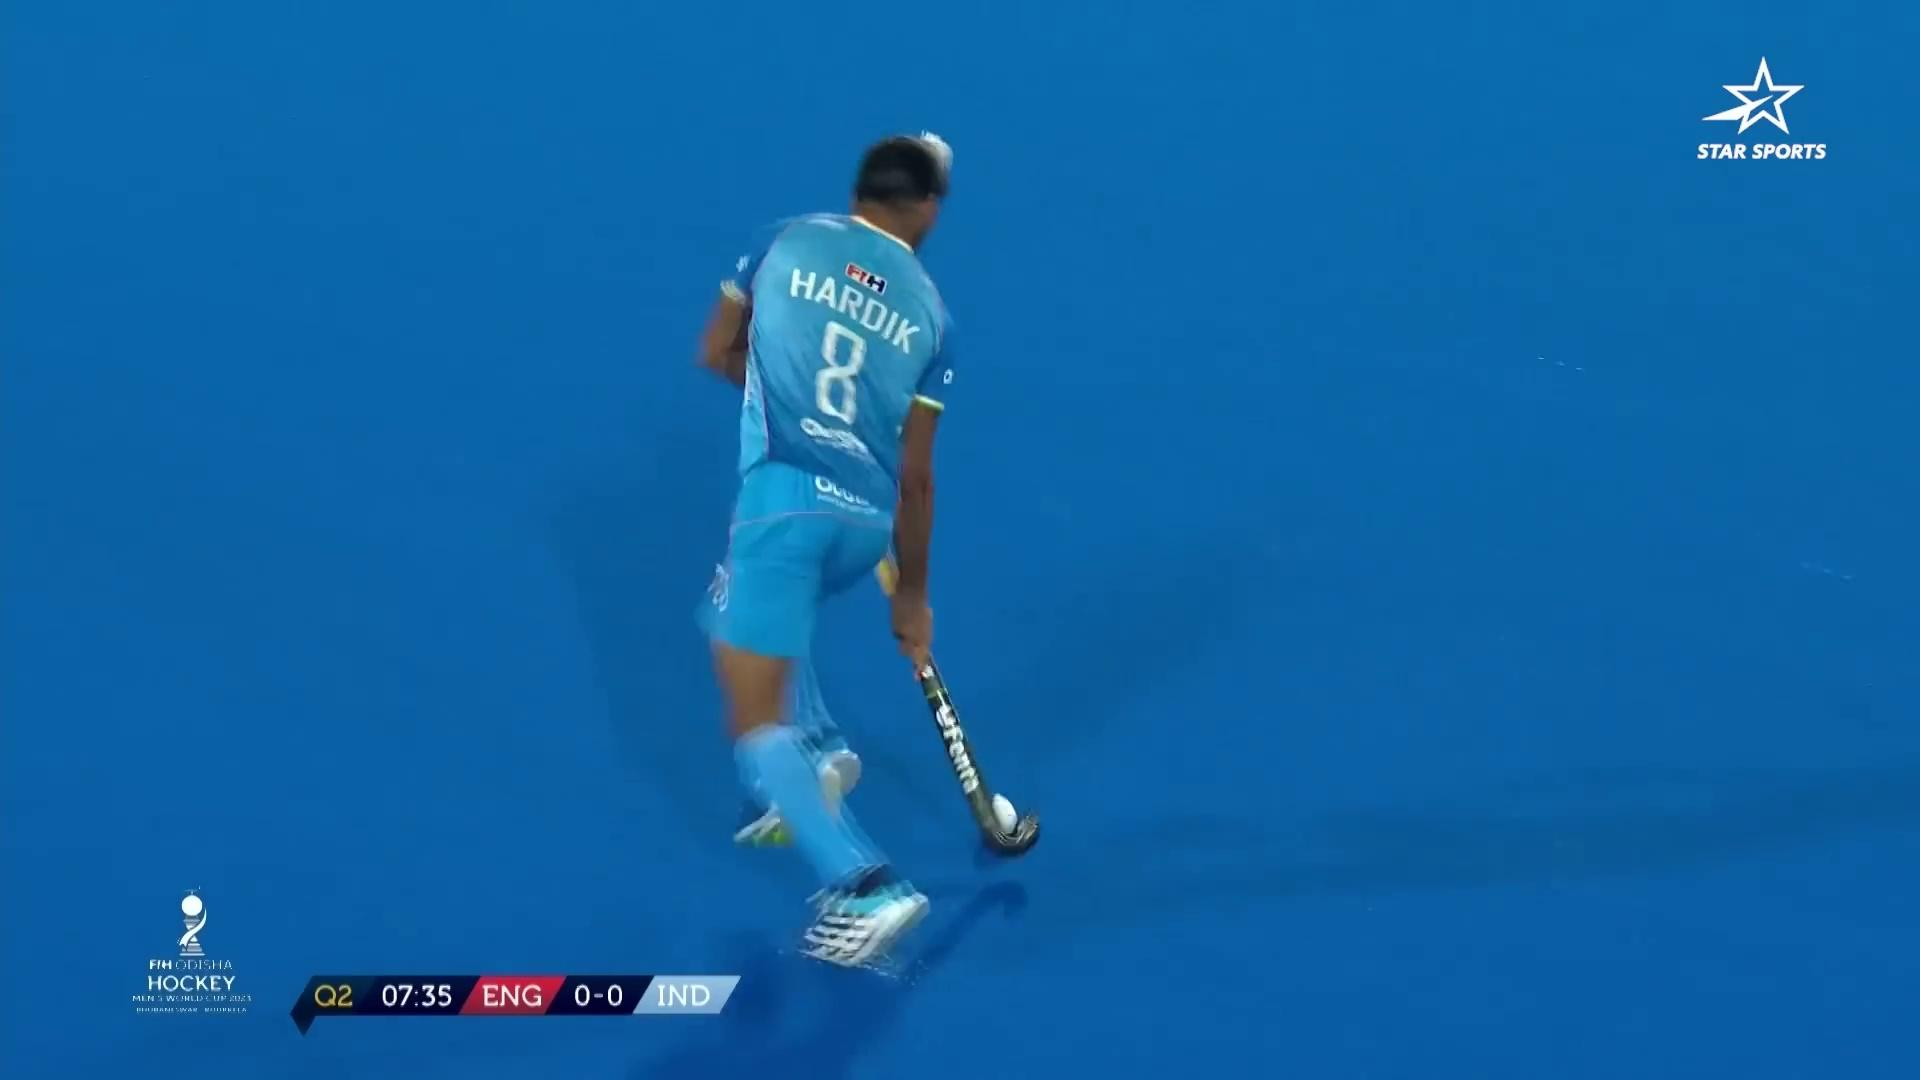ball: (953, 774, 1059, 858)
